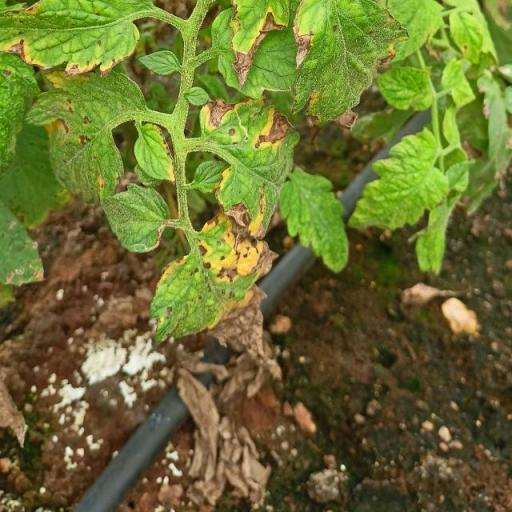disease_tomato: (147, 209, 280, 364), (19, 70, 151, 202), (196, 90, 301, 238), (0, 0, 152, 81), (133, 122, 178, 186)
